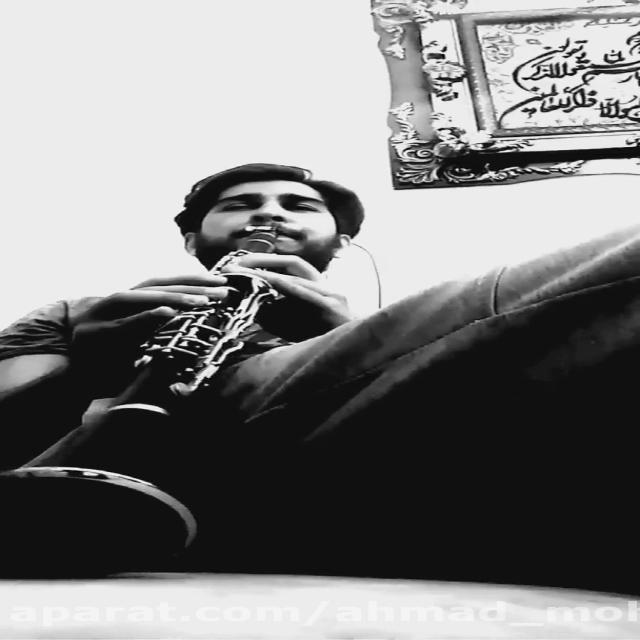Clarinet: (10, 221, 298, 561)
